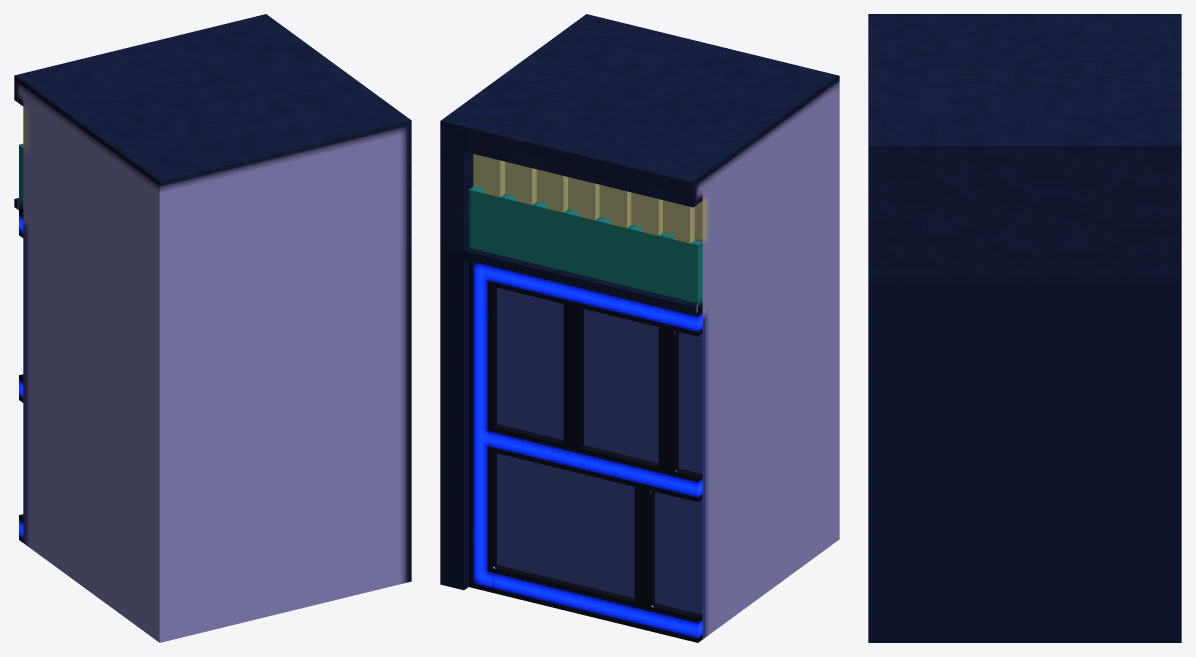
Rendered from sklep_lewo.dae.
3 renders of one model, left to right at view 1: azimuth 30°, elevation 25°; view 2: azimuth 150°, elevation 25°; view 3: azimuth 270°, elevation 25°, orthographic. The views are drawn at different scales.
Visible parts, largest first — view 1: Content; view 2: Content; view 3: Content.
Boxes of the visible parts, box(x1,y1,x2,y2) form: Content: box(14, 14, 411, 642); Content: box(440, 14, 839, 642); Content: box(868, 14, 1181, 642).
Bounding box in the file's own units: 32 × 56 × 32.
1 material, 1 textured.
